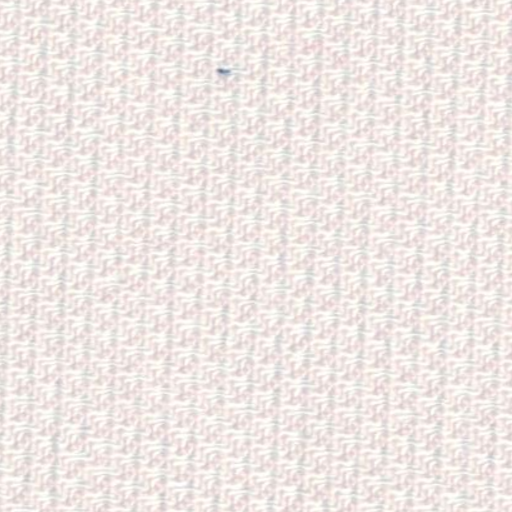WuZi: (200, 56, 246, 94)
